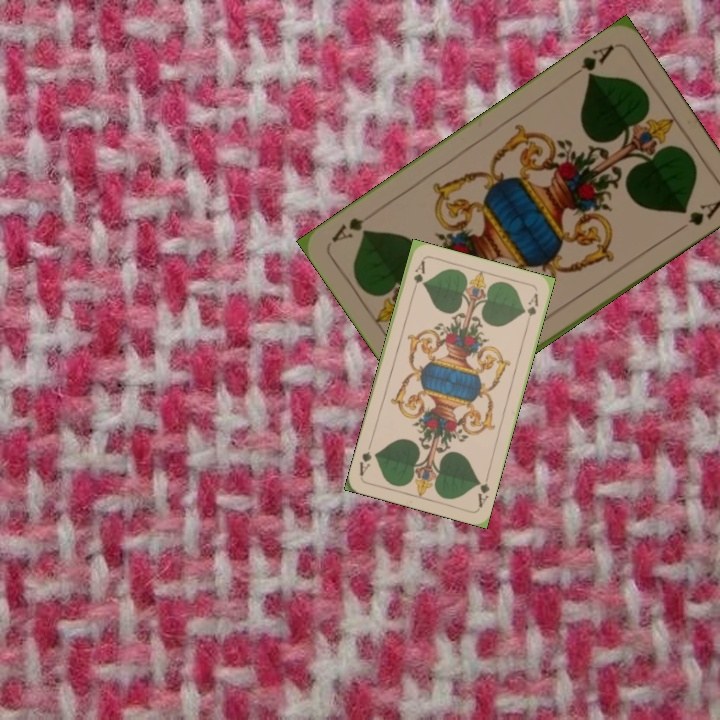GA: (565, 40, 617, 82), (408, 257, 427, 296), (474, 470, 492, 510)
